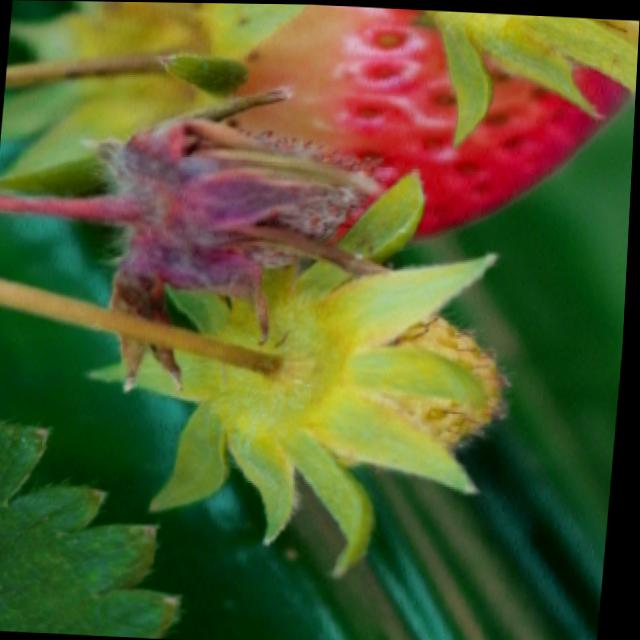Gray Mold: (81, 112, 390, 346)
